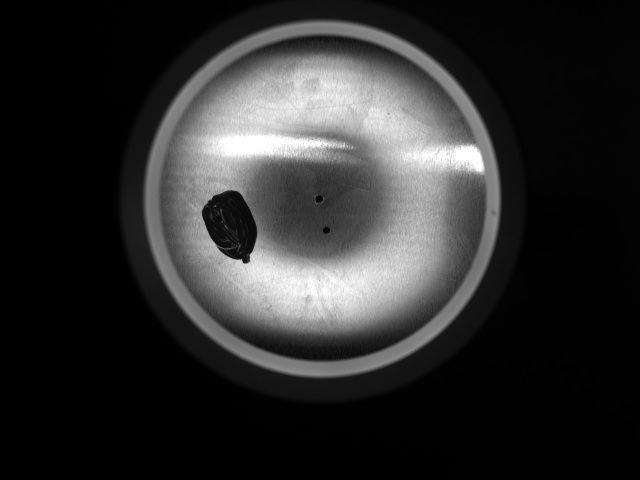zang_wu: (201, 188, 259, 265)
zhen_kong: (320, 223, 334, 235), (313, 193, 325, 205)
